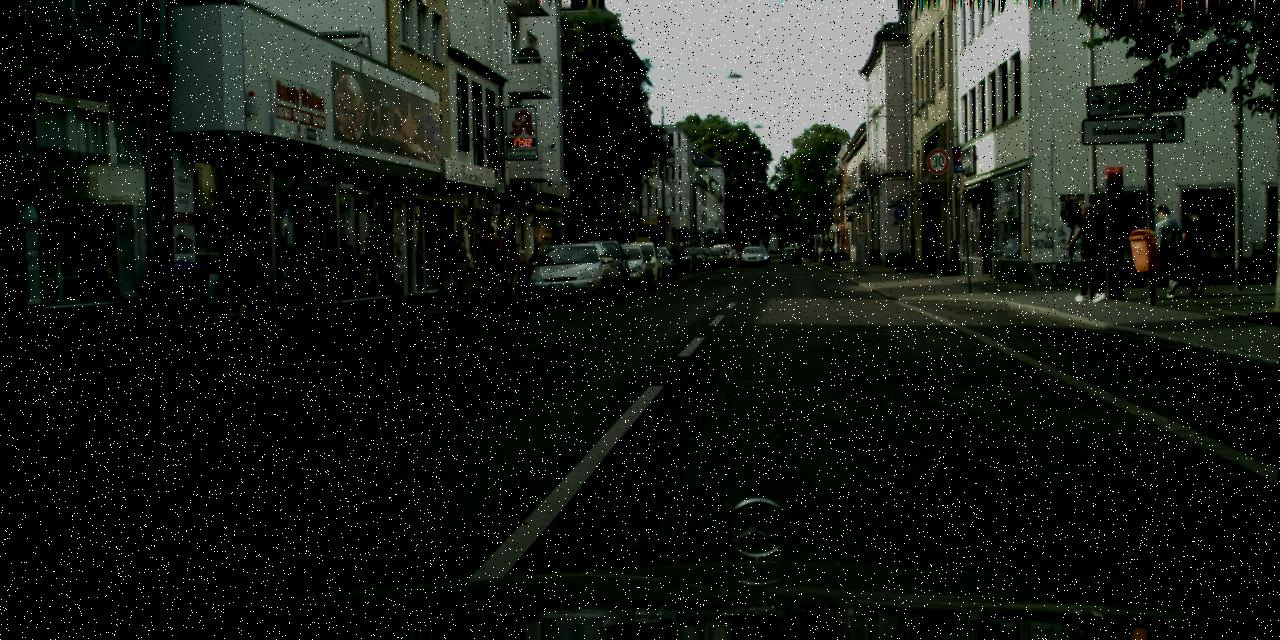ped: (218, 216, 265, 331), (1069, 202, 1108, 300), (1148, 204, 1186, 294), (1178, 206, 1212, 290), (476, 225, 506, 296), (427, 229, 454, 295), (445, 231, 471, 296), (496, 229, 522, 293), (670, 242, 680, 271)
